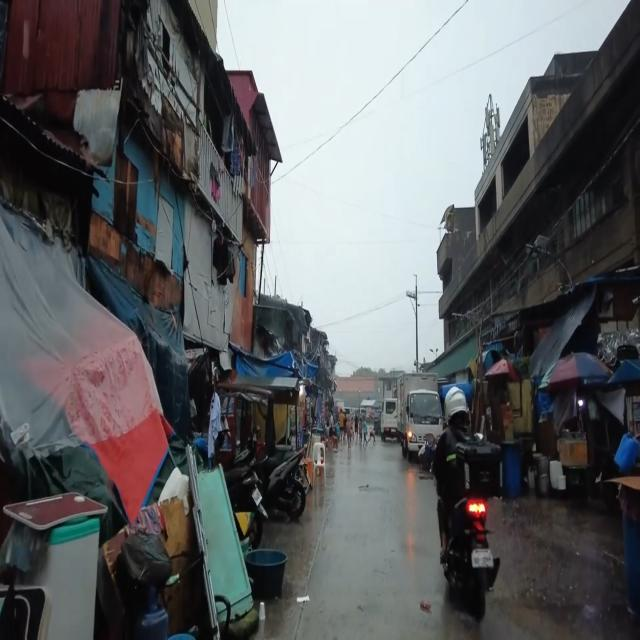half: (444, 385, 469, 426)
